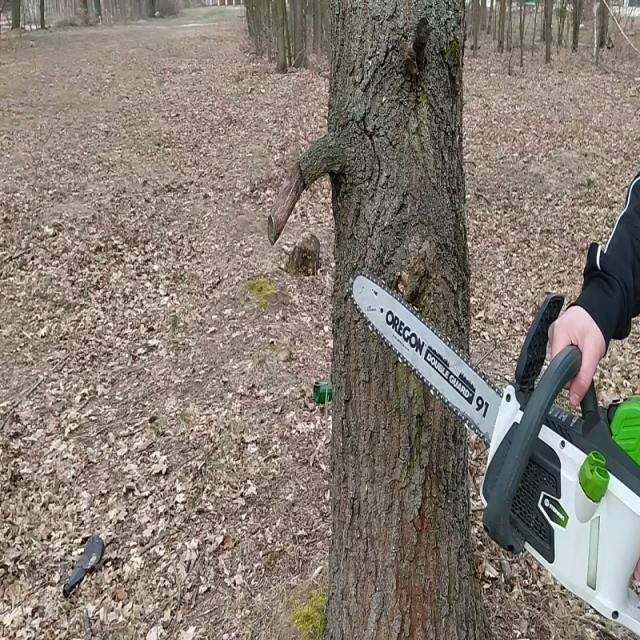Chainsaw: (341, 261, 640, 639)
